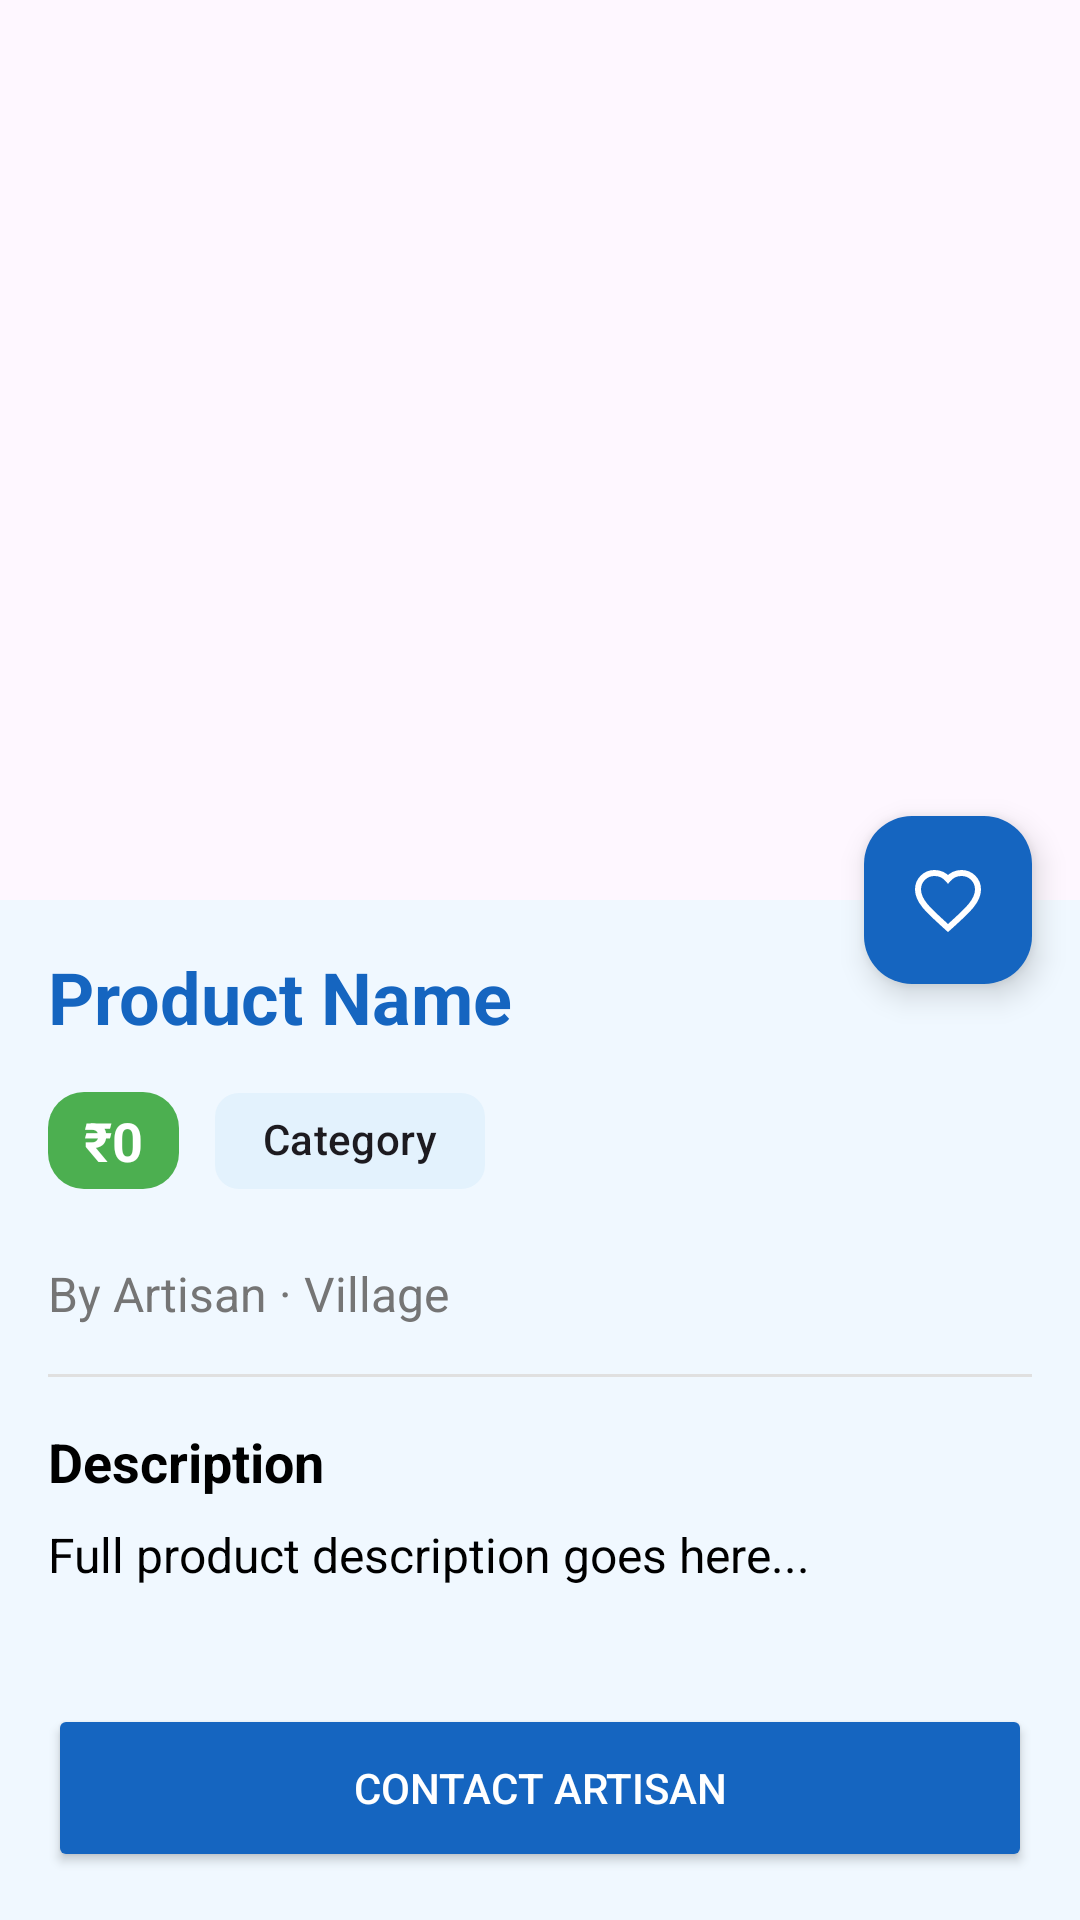

Icon click points for this 1080px x 1920px phone screenshot, format (x,y):
heart: (948,900)
